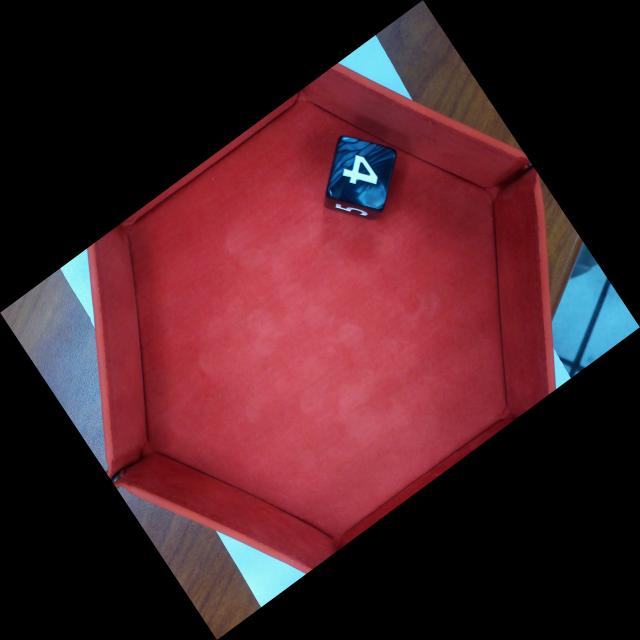dice: (326, 135, 397, 213)
